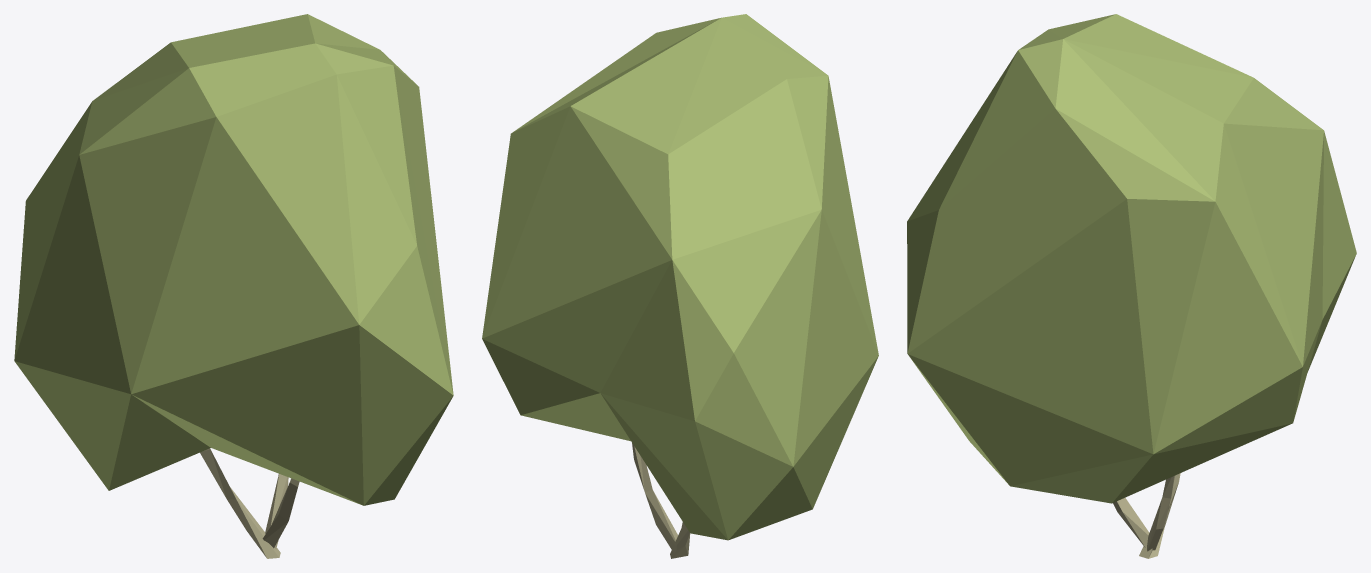
The model's file is FrangulaAlnus.glb.
The picture shows the model from 3 angles, left to right: view 1: azimuth 30°, elevation 25°; view 2: azimuth 150°, elevation 25°; view 3: azimuth 270°, elevation 25°; orthographic projection. The views are drawn at different scales.
Parts seen in each view (by area): view 1: Crown, Trunk; view 2: Crown, Trunk; view 3: Crown, Trunk.
Part boxes in pixels (x1,y1,x2,y2): Crown: (14, 14, 453, 505); Trunk: (200, 448, 299, 558); Crown: (482, 14, 878, 540); Trunk: (632, 443, 690, 558); Crown: (907, 14, 1356, 503); Trunk: (1113, 473, 1180, 558).
Size of the model in its own units: 4.31 by 6.23 by 4.93.
